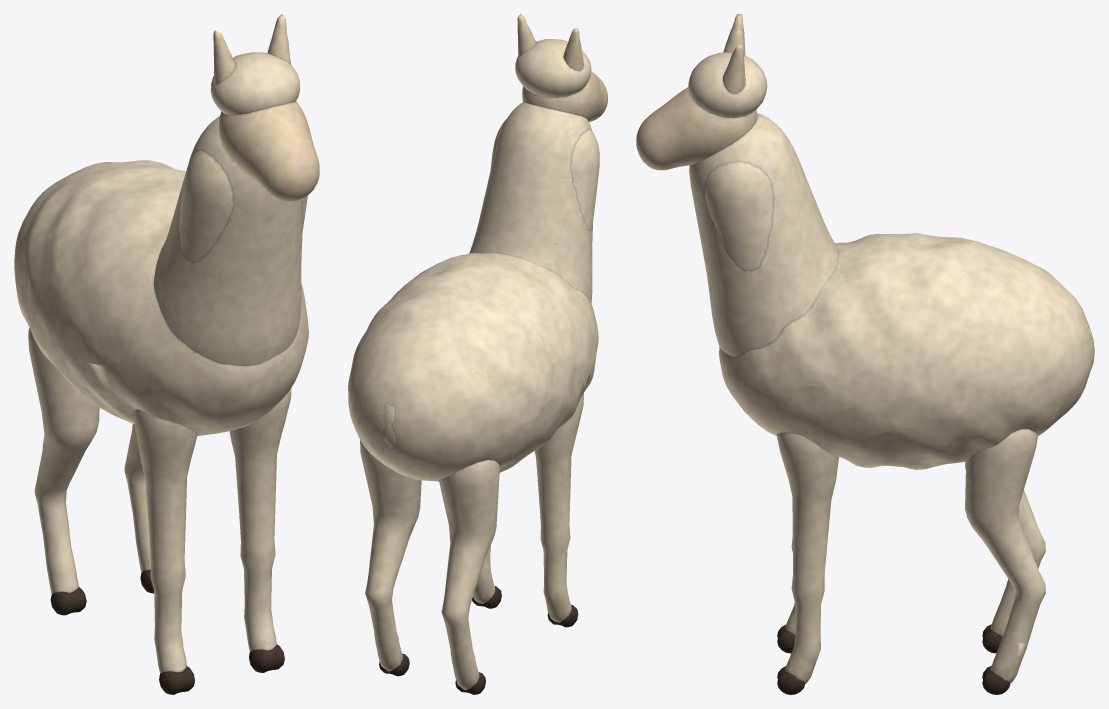
The model's file is animal_alpaca.glb.
The picture shows the model from 3 angles, left to right: view 1: azimuth 30°, elevation 25°; view 2: azimuth 150°, elevation 25°; view 3: azimuth 270°, elevation 25°; orthographic projection. The views are drawn at different scales.
Visible parts, largest first — view 1: animal_alpaca, head, leg0, leg2, leg1, leg3; view 2: animal_alpaca, leg2, leg3, head, leg0, leg1, tail; view 3: animal_alpaca, leg3, head, leg1, leg2.
Boxes of the visible parts, x1,y1,x2,y2 form: animal_alpaca: (14,116,308,435); head: (210,14,319,201); leg0: (134,409,197,694); leg2: (28,327,99,615); leg1: (229,388,291,672); leg3: (124,424,153,593); animal_alpaca: (348,102,599,481); leg2: (439,460,499,694); leg3: (360,440,421,676); head: (515,14,607,121); leg0: (534,393,583,627); leg1: (472,546,501,608); tail: (383,402,396,448); animal_alpaca: (689,113,1093,469); leg3: (965,429,1045,694); head: (636,14,767,170); leg1: (776,432,838,694); leg2: (965,461,1045,653).
Bounding box in the file's own units: 0.2394 × 0.7217 × 0.4676.
1 material, 1 textured.
